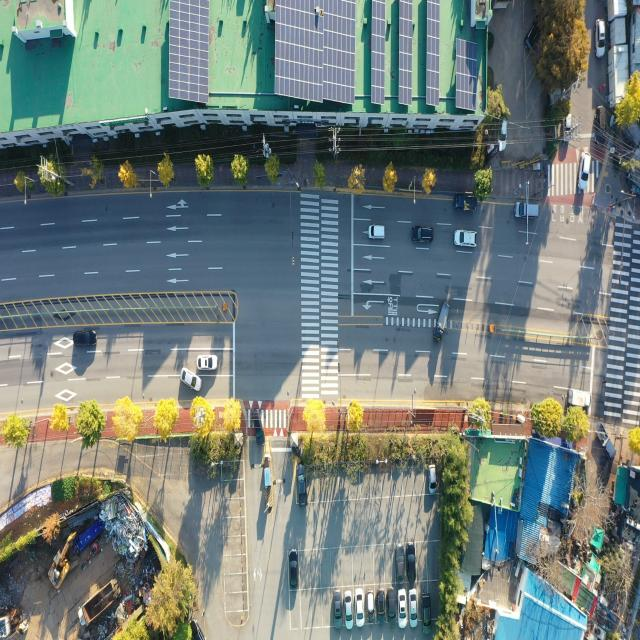car: (180, 368, 202, 391), (252, 407, 264, 449), (578, 150, 590, 191), (594, 105, 606, 142), (514, 203, 539, 220), (455, 231, 478, 249), (409, 588, 419, 629), (397, 589, 407, 628), (296, 468, 306, 507), (73, 332, 96, 348), (413, 227, 434, 244), (596, 20, 605, 58), (422, 593, 431, 631), (498, 120, 508, 153), (525, 24, 537, 50), (290, 550, 298, 588), (335, 589, 343, 627), (563, 111, 573, 141), (409, 545, 417, 582), (396, 545, 404, 582), (377, 590, 386, 622), (388, 588, 396, 624), (199, 355, 217, 370), (356, 588, 363, 623), (368, 224, 384, 238), (366, 591, 373, 622), (346, 591, 352, 626), (429, 466, 436, 494)
medium_truck: (76, 576, 122, 628)
small_truck: (434, 301, 452, 341), (596, 422, 614, 461), (566, 392, 592, 408), (454, 196, 477, 213)
